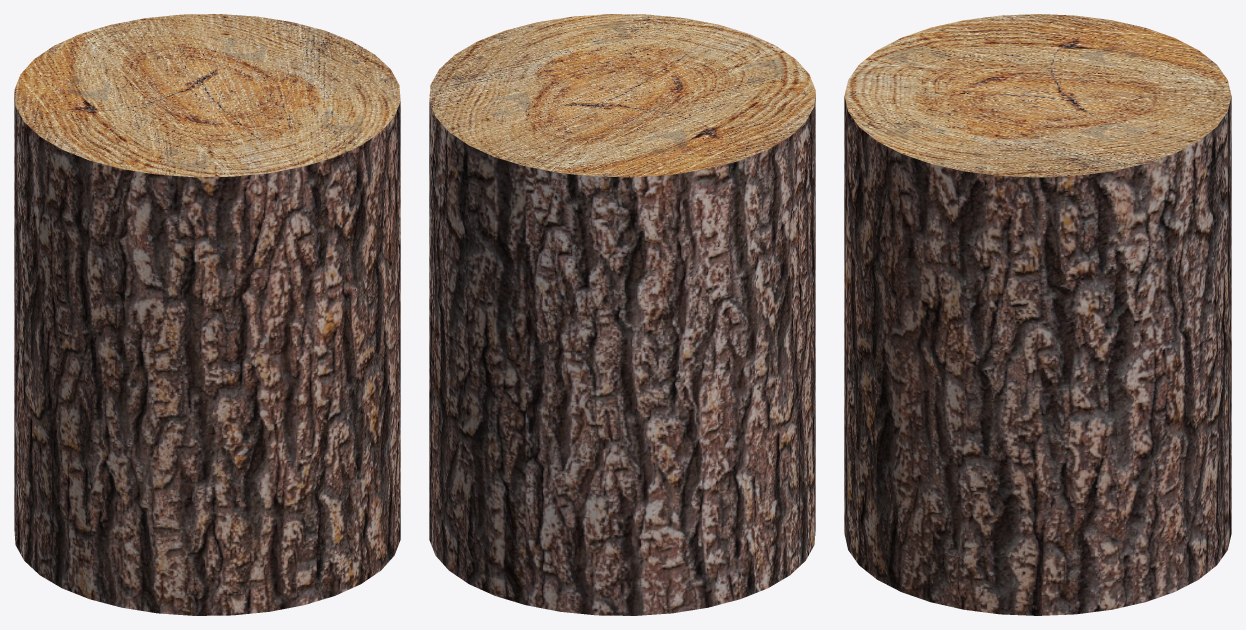
Rendered from Cilindro.gltf.
3 views of the same model, side by side, from view 1: azimuth 30°, elevation 25°; view 2: azimuth 150°, elevation 25°; view 3: azimuth 270°, elevation 25° (orthographic).
Visible parts, largest first — view 1: Cylinder; view 2: Cylinder; view 3: Cylinder.
Part boxes in pixels (box(x1,y1,x2,y2)): Cylinder: box(14, 14, 400, 615); Cylinder: box(429, 14, 815, 615); Cylinder: box(844, 14, 1231, 615).
Size of the model in its own units: 0.8 by 1 by 0.8.
Materials: 1 (1 with a texture image).
